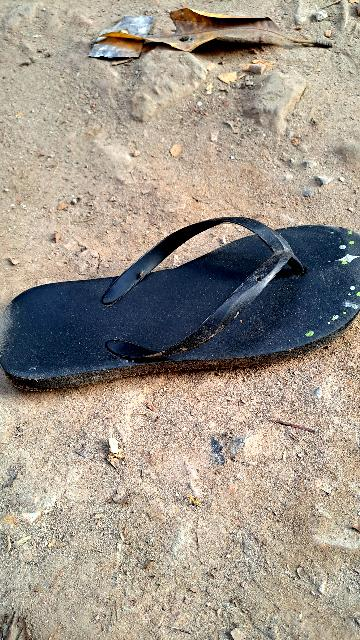sandal: (0, 210, 360, 389)
